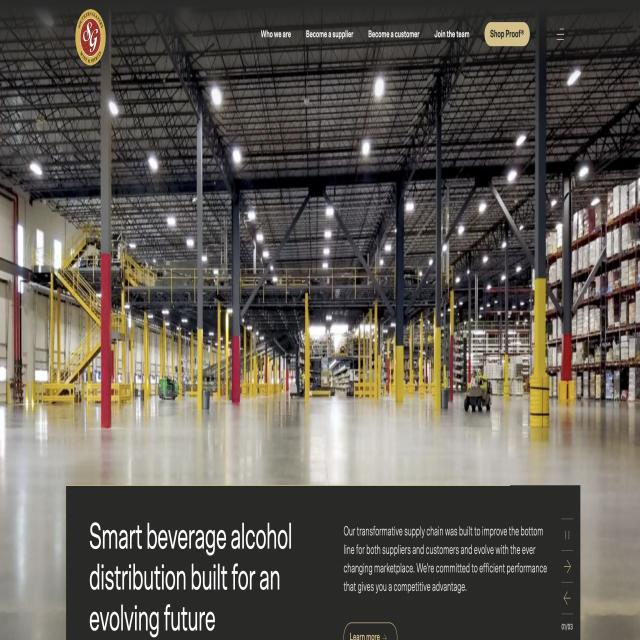Logo: (69, 0, 112, 72)
Navigation: (252, 12, 579, 63)
